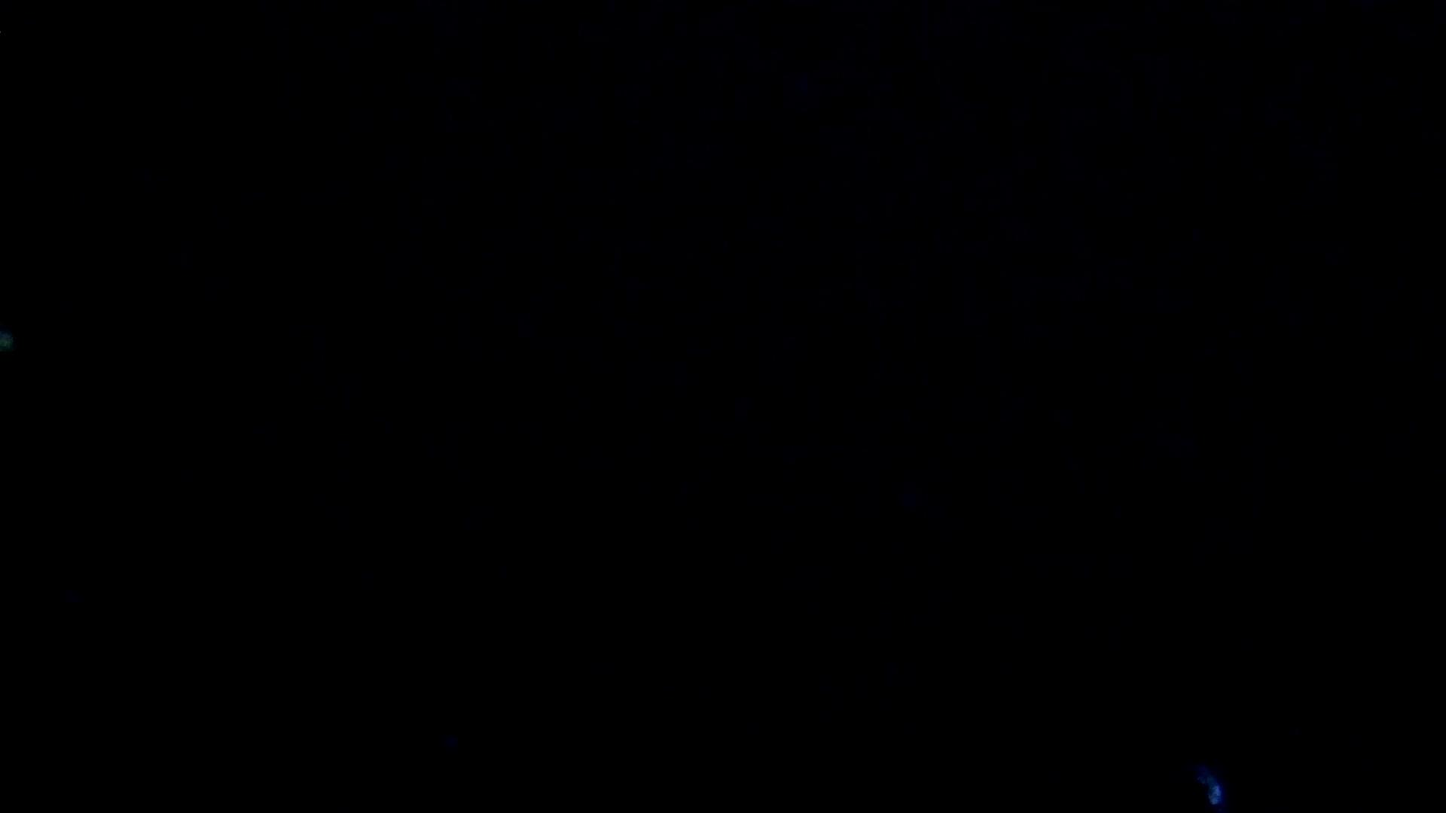organism: (1196, 760, 1226, 813)
